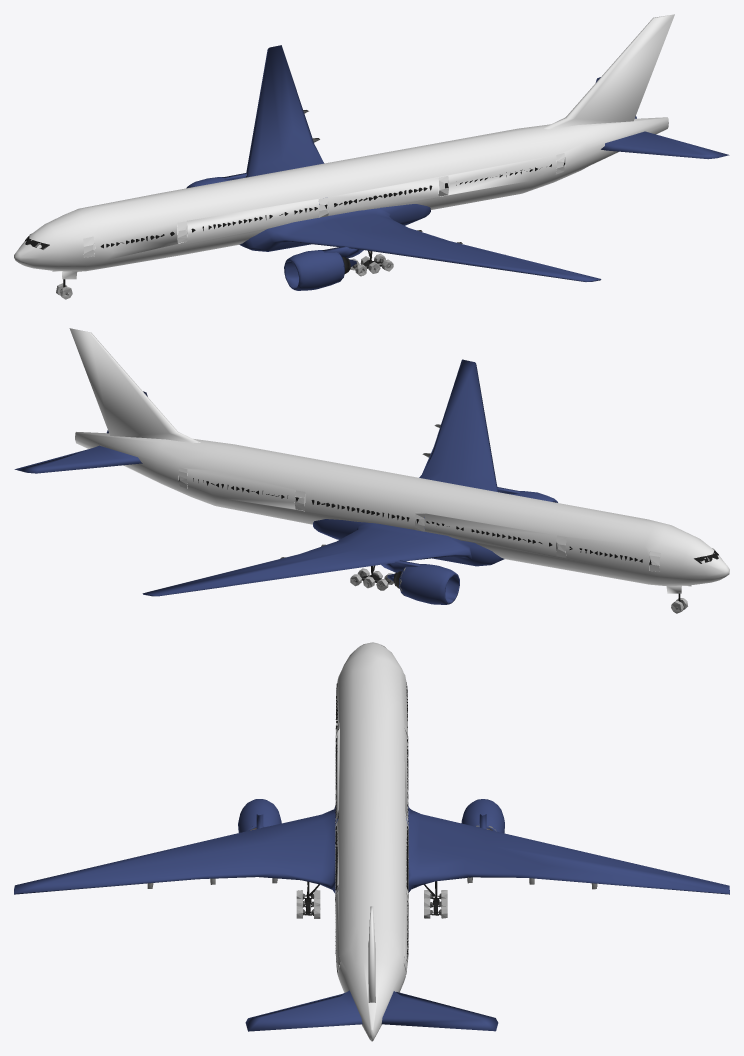
Rendered from Boing 777.fbx.
3 views of the same model, one above another, from view 1: azimuth 30°, elevation 25°; view 2: azimuth 150°, elevation 25°; view 3: azimuth 270°, elevation 25° (orthographic). The views are drawn at different scales.
Visible parts, largest first — view 1: Plane.001; view 2: Plane.001; view 3: Plane.001.
Boxes of the visible parts, <box> form: Plane.001: <box>14,14,729,299</box>; Plane.001: <box>14,328,729,613</box>; Plane.001: <box>14,642,729,1041</box>.
Bounding box in the file's own units: 1294 × 292 × 1084.
